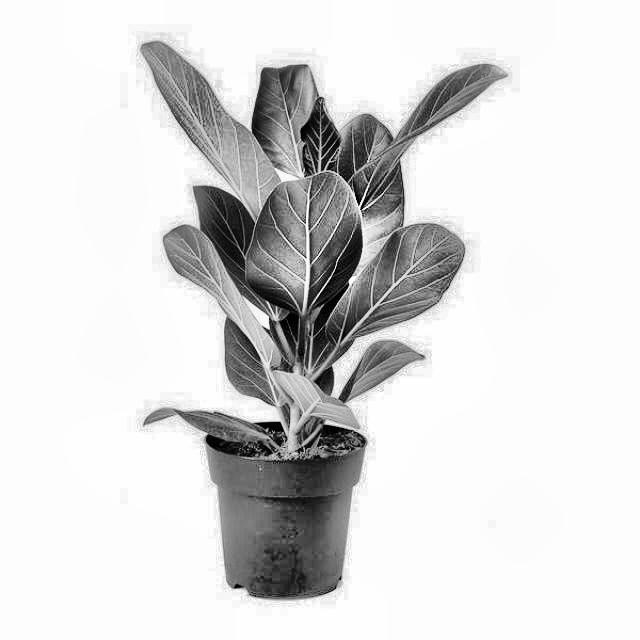plants: (163, 50, 474, 600)
